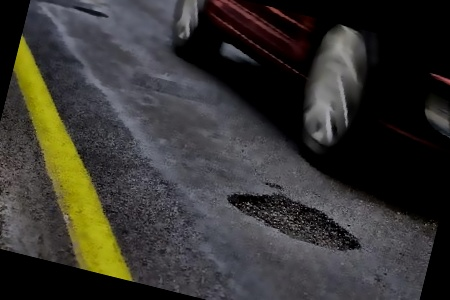pothole: (220, 180, 369, 255), (71, 1, 109, 19), (261, 178, 283, 191)
